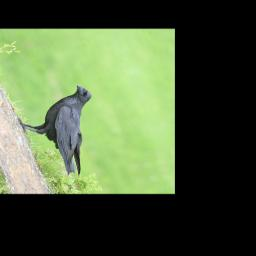Crow: (7, 82, 125, 182)
